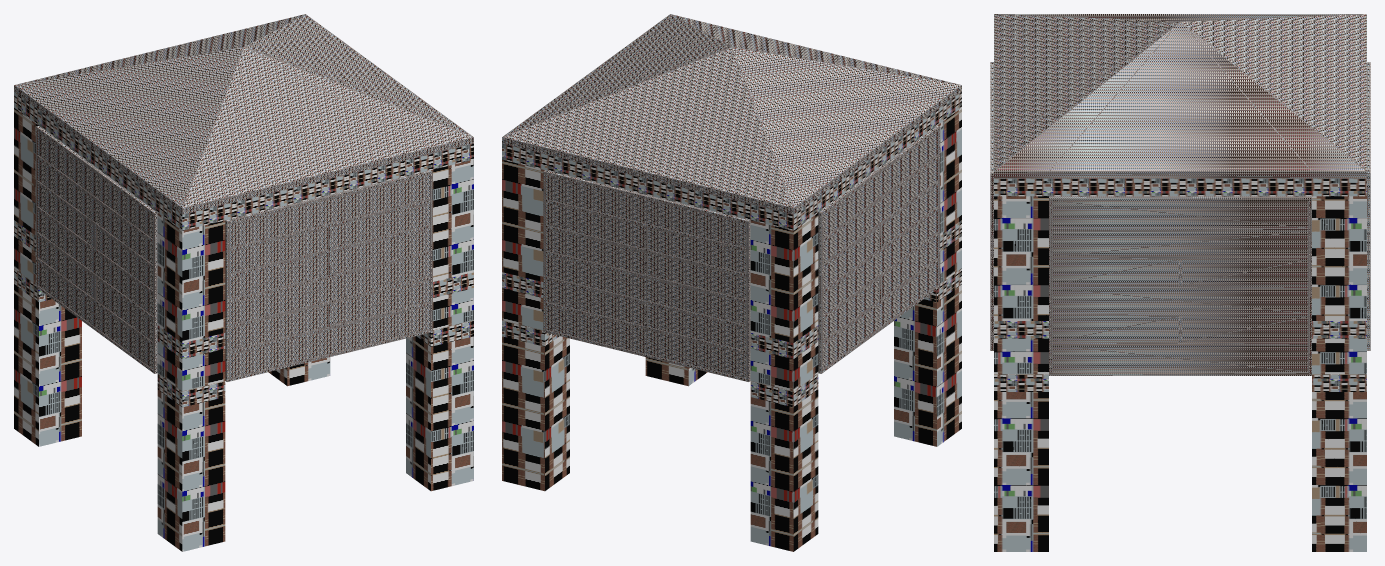
Rendered from Rougemount Centre Plaza Sign.fbx.
3 views of the same model, side by side, from view 1: azimuth 30°, elevation 25°; view 2: azimuth 150°, elevation 25°; view 3: azimuth 270°, elevation 25° (orthographic). The views are drawn at different scales.
Visible parts, largest first — view 1: Rougemount_Centre_Plaza_Sign_LOD0; view 2: Rougemount_Centre_Plaza_Sign_LOD0; view 3: Rougemount_Centre_Plaza_Sign_LOD0.
Part boxes in pixels (x1,y1,x2,y2): Rougemount_Centre_Plaza_Sign_LOD0: [14, 14, 473, 551]; Rougemount_Centre_Plaza_Sign_LOD0: [502, 14, 961, 551]; Rougemount_Centre_Plaza_Sign_LOD0: [990, 14, 1370, 551].
Size of what is drawn, in the model's own units: 485 by 635 by 485.
1 material, 1 textured.
